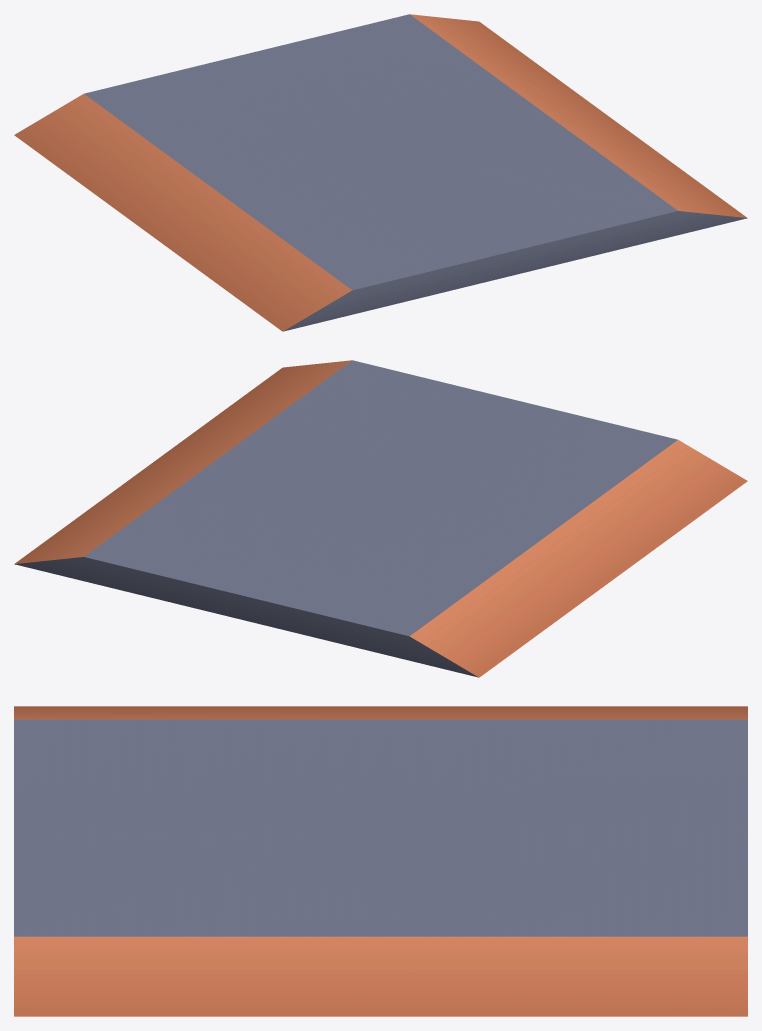
Rendered from path-short.draco.glb.
3 renders of one model, top to bottom at view 1: azimuth 30°, elevation 25°; view 2: azimuth 150°, elevation 25°; view 3: azimuth 270°, elevation 25°, orthographic. The views are drawn at different scales.
Parts seen in each view (by area): view 1: path-short; view 2: path-short; view 3: path-short.
Part boxes in pixels (x1,y1,x2,y2): path-short: (14, 14, 747, 331); path-short: (14, 360, 747, 677); path-short: (14, 706, 747, 1016).
Bounding box in the file's own units: 0.2 × 0.01 × 0.2.
Materials: 1 (1 with a texture image).
